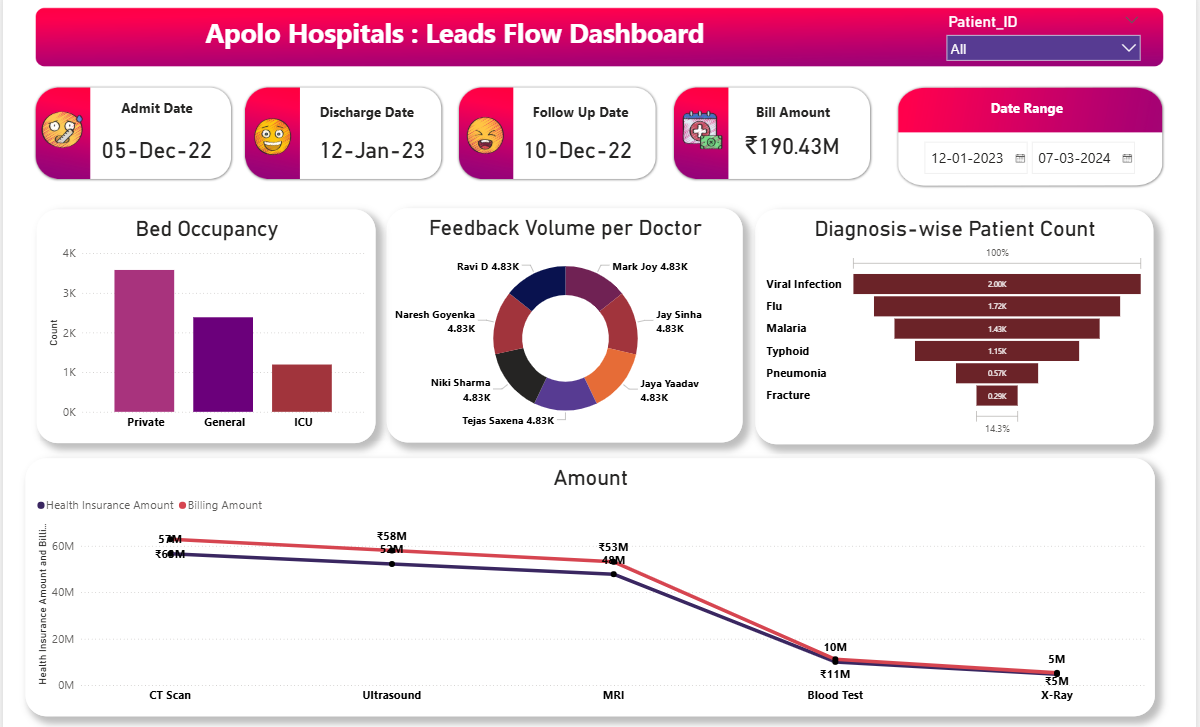

The page's visual inventory and layout, read from the dashboard file:
{"tool":"powerbi","page":{"name":"Page 2","canvas":[1680,1050],"ordinal":0},"visuals":[{"type":"textbox","box":[280,27.1,755.7,74.3],"z":0},{"type":"image","box":[2636.7,100,623.3,150],"z":1000},{"type":"slicer","fields":{"Values":["Sheet1.Patient_ID"]},"box":[2400,373.3,793.3,420],"z":2000},{"type":"card","fields":{"Values":["Min(Sheet1.Admit_Date)"]},"box":[437.6,198.8,162.9,42.8],"z":3000},{"type":"card","fields":{"Values":["Min(Sheet1.Discharge_Date)"]},"box":[129.8,198.8,172.6,42.8],"z":4000},{"type":"card","fields":{"Values":["Min(Sheet1.Followup Date)"]},"box":[724.3,198.6,167.1,42.9],"z":5000},{"type":"textbox","box":[152.9,145.7,127.1,57.1],"z":6000},{"type":"textbox","box":[437.1,151.4,151.4,37.1],"z":7000},{"type":"textbox","box":[732.9,151.4,158.6,37.1],"z":8000},{"type":"textbox","box":[1035.7,151.4,151.4,37.1],"z":9000},{"type":"card","fields":{"Values":["Sum(Sheet1.Billing Amount)"]},"box":[1031.4,194.3,158.6,42.9],"z":10000},{"type":"image","box":[50,157.1,68.6,74.3],"z":11000},{"type":"image","box":[348.6,172.9,62.9,62.9],"z":12000},{"type":"image","box":[640,171.4,77.1,62.9],"z":13000},{"type":"image","box":[951.4,158.6,65.7,71.4],"z":14000},{"type":"columnChart","title":"Bed Occupancy","fields":{"Category":["Sheet1.Bed_Occupancy"],"Y":["CountNonNull(Sheet1.Bed_Occupancy)"]},"box":[47.1,305.7,477.1,328.6],"z":15000},{"type":"donutChart","title":"Feedback Volume per Doctor","fields":{"Category":["Sheet1.Doctor"],"Y":["Sum(Sheet1.Feedback)"]},"box":[540.2,305.2,501,329.5],"z":16000},{"type":"funnel","title":"Diagnosis-wise Patient Count","fields":{"Category":["Sheet1.Diagnosis"],"Y":["CountNonNull(Sheet1.Diagnosis)"]},"box":[1060,305.7,560,330],"z":17000},{"type":"lineChart","title":"Amount","fields":{"Y":["Sum(Sheet1.Health Insurance Amount)","Sum(Sheet1.Billing Amount)"],"Category":["Sheet1.Test"]},"box":[31.1,656.3,1589.5,363.3],"z":19000},{"type":"slicer","fields":{"Values":["Sheet1.Admit_Date"]},"box":[1284.3,201.2,360.6,68.9],"z":20000},{"type":"slicer","fields":{"Values":["Sheet1.Patient_ID"]},"box":[1317.1,24.3,292.9,82.9],"z":21000},{"type":"textbox","box":[1365.7,145.7,151.4,37.1],"z":22000}]}

Visuals, with their boxes on the page's 1680x1050 design canvas (x1, y1, x2, y2). These are canvas units, not pixel positions in the 1200x727 screenshot, which may show the page scaled, cropped or inside an application window:
textbox: [280,27,1036,101]
image: [2637,100,3260,250]
slicer - Sheet1.Patient_ID: [2400,373,3193,793]
card - Min(Sheet1.Admit_Date): [438,199,600,242]
card - Min(Sheet1.Discharge_Date): [130,199,302,242]
card - Min(Sheet1.Followup Date): [724,199,891,242]
textbox: [153,146,280,203]
textbox: [437,151,588,188]
textbox: [733,151,892,188]
textbox: [1036,151,1187,188]
card - Sum(Sheet1.Billing Amount): [1031,194,1190,237]
image: [50,157,119,231]
image: [349,173,412,236]
image: [640,171,717,234]
image: [951,159,1017,230]
"Bed Occupancy" columnChart: [47,306,524,634]
"Feedback Volume per Doctor" donutChart: [540,305,1041,635]
"Diagnosis-wise Patient Count" funnel: [1060,306,1620,636]
"Amount" lineChart: [31,656,1621,1020]
slicer - Sheet1.Admit_Date: [1284,201,1645,270]
slicer - Sheet1.Patient_ID: [1317,24,1610,107]
textbox: [1366,146,1517,183]
